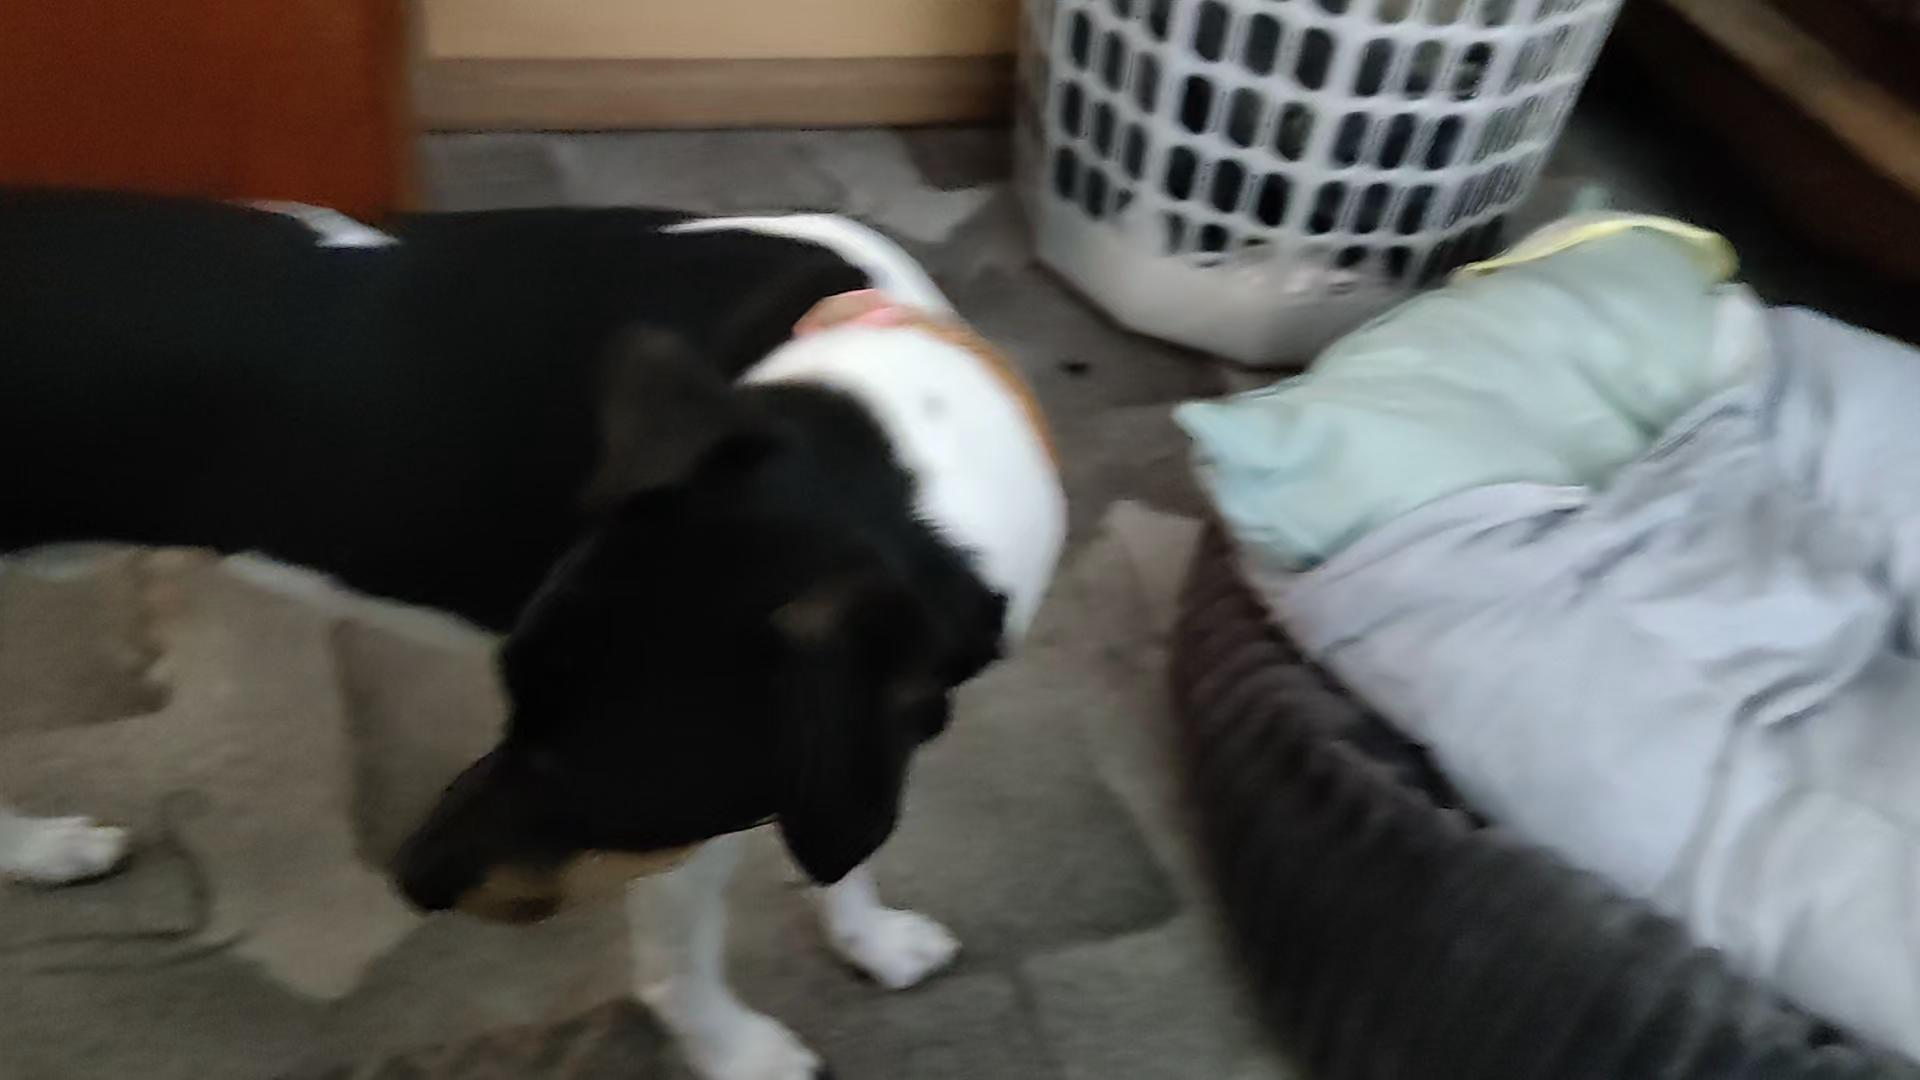Dog: (0, 169, 1088, 1079)
